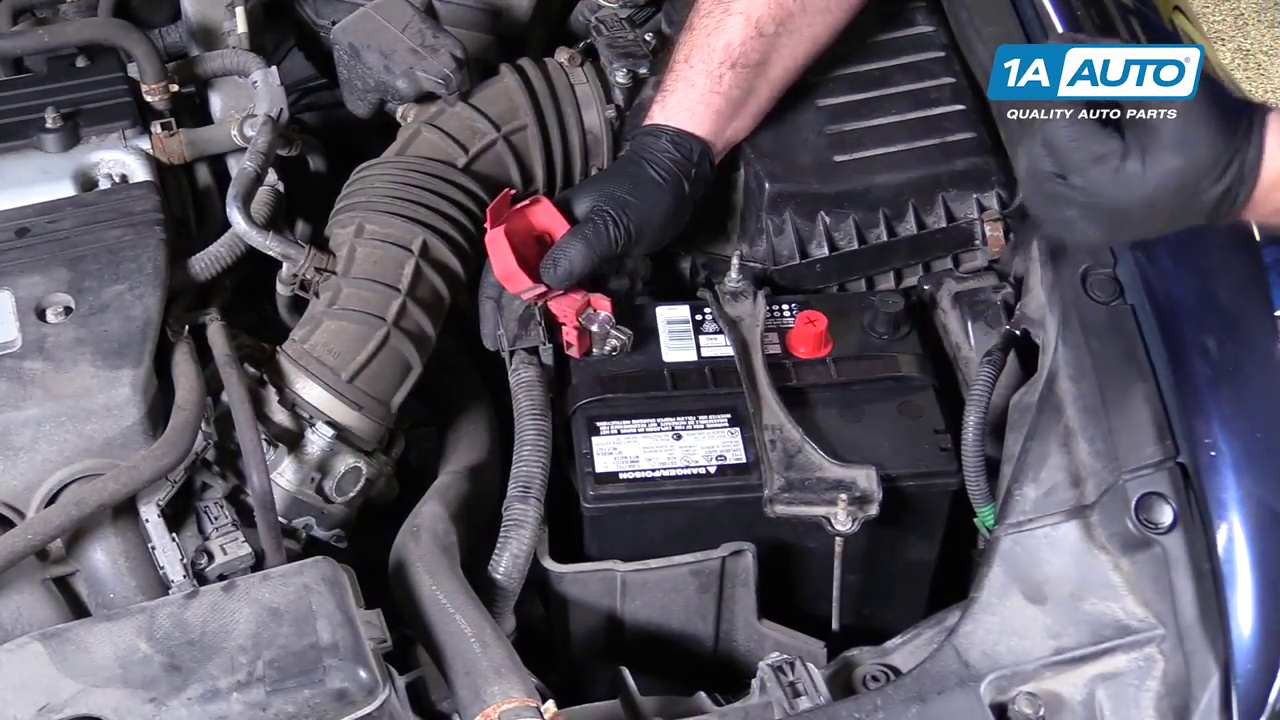battery: (563, 279, 950, 486)
pos_connected: (481, 260, 659, 377)
pos_touched: (469, 199, 638, 364)
